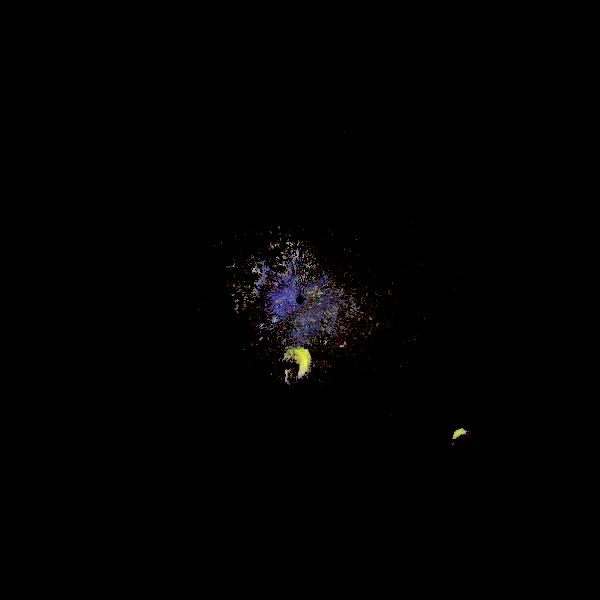roost: (275, 347, 314, 386), (450, 428, 477, 455)
